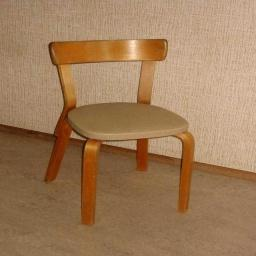Chair: (44, 41, 196, 225)
